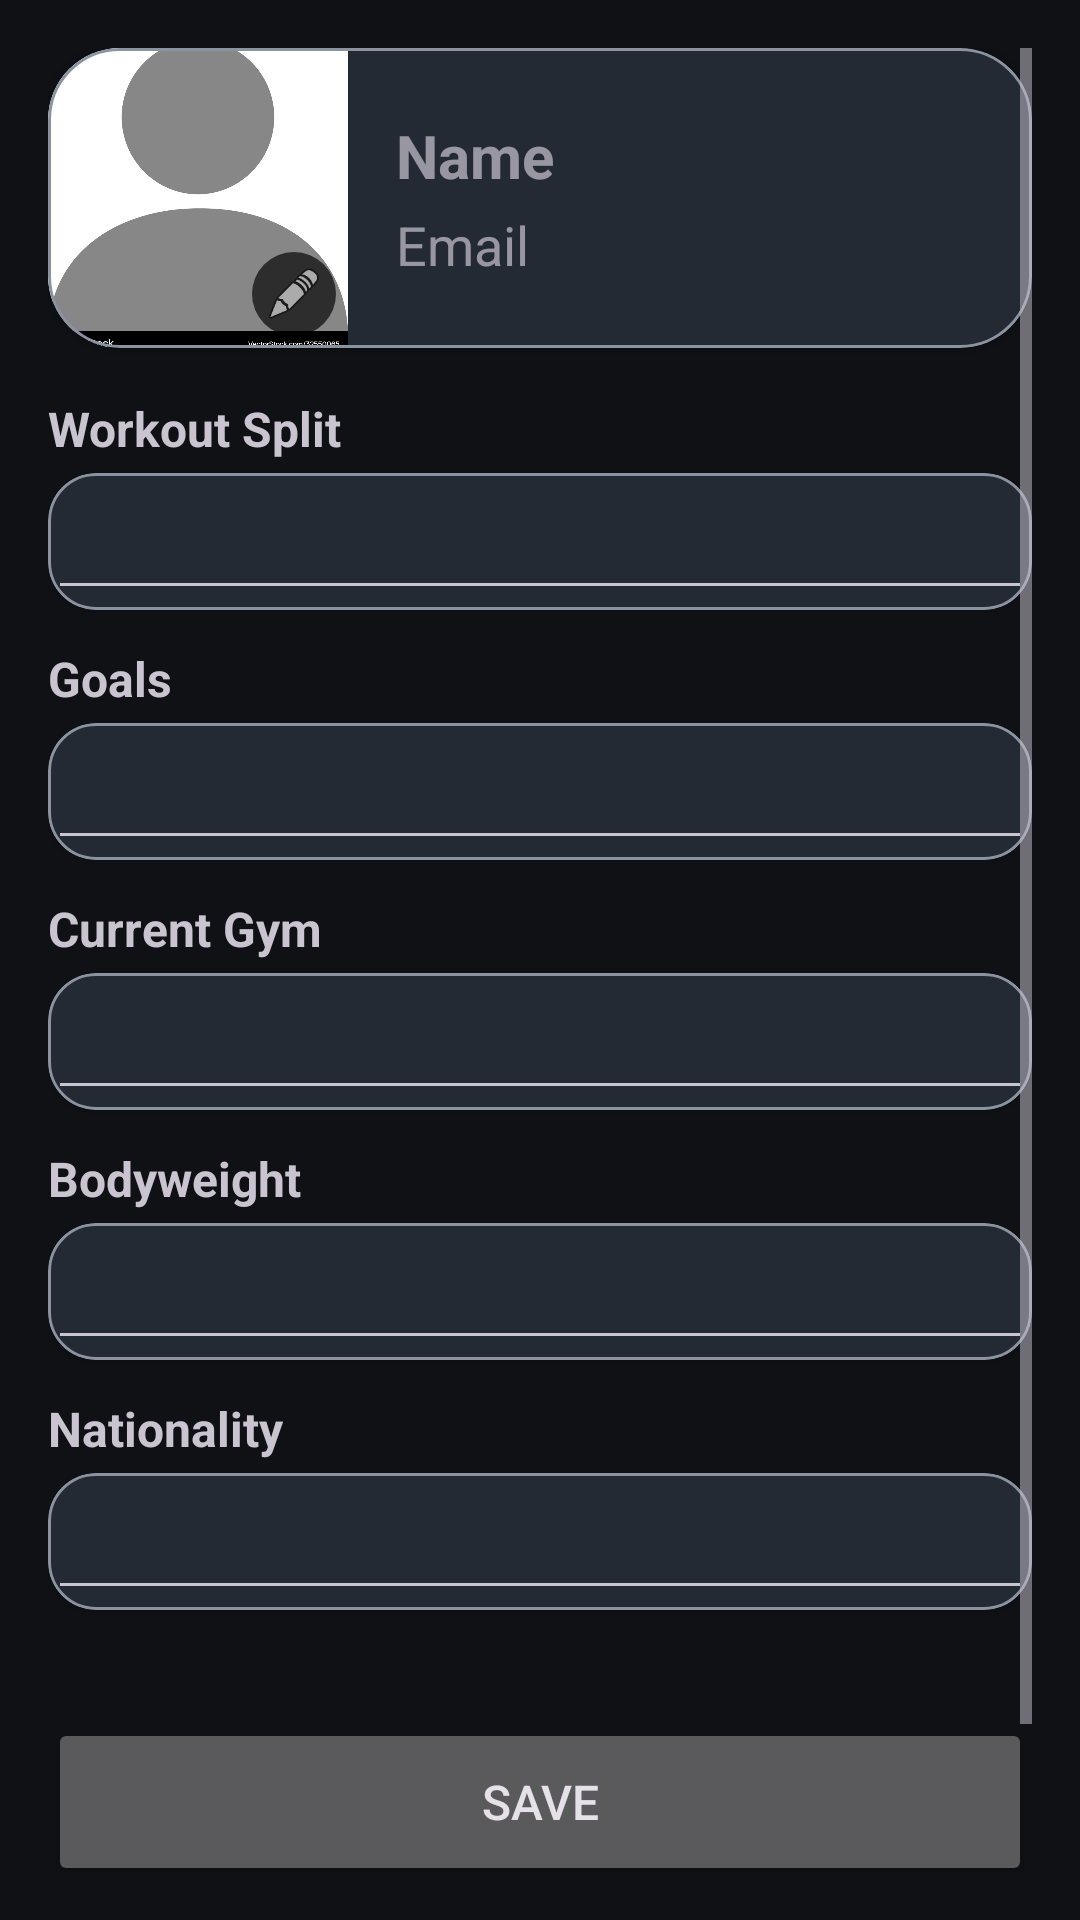

Screen size 1080w x 1920h. Icon name, then its center in pixels as point (x, y):
edit: point (294, 294)
